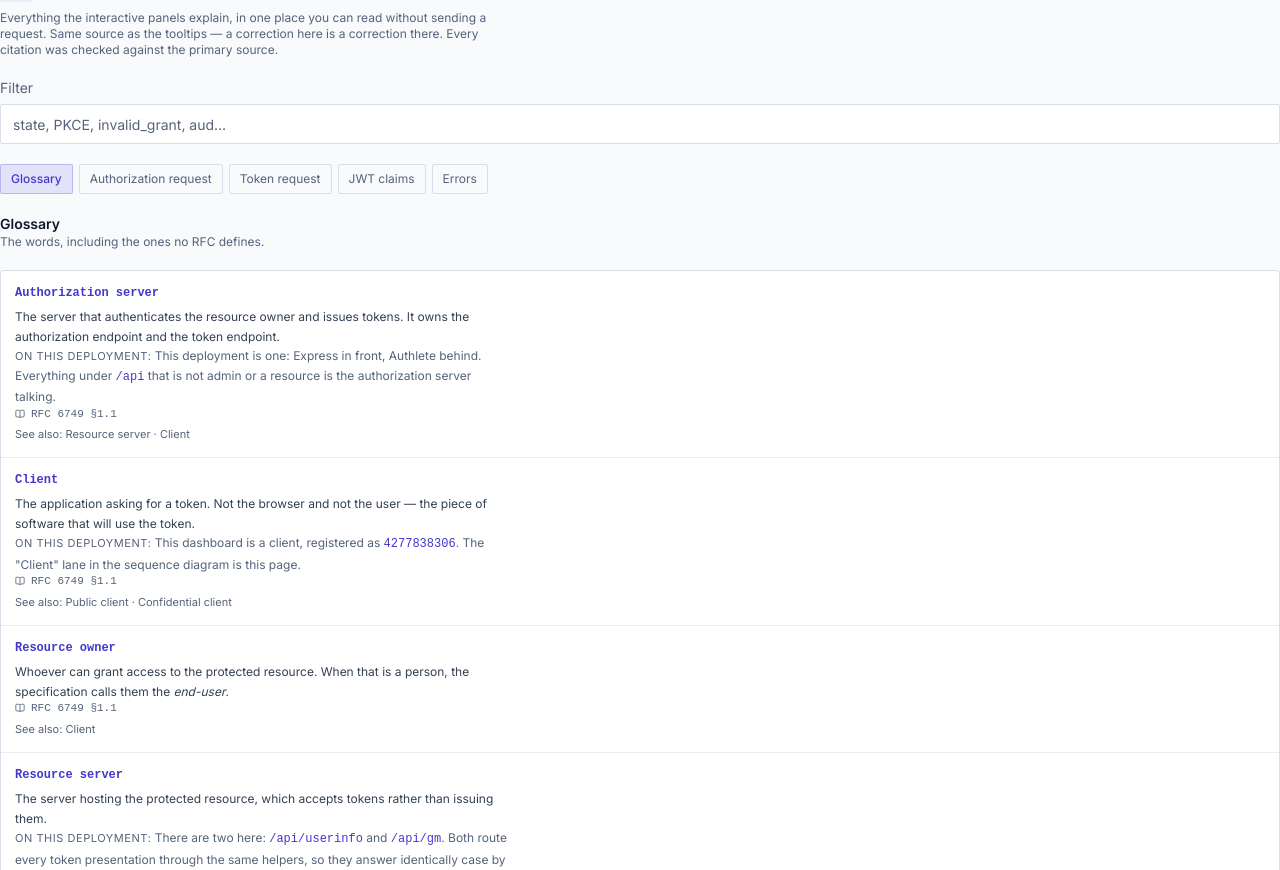
Test: ReferencePage › documents the token request, which had no surface at all
Click the button "Token request": x=280, y=179 [229,164,332,194]
(page scrolled)
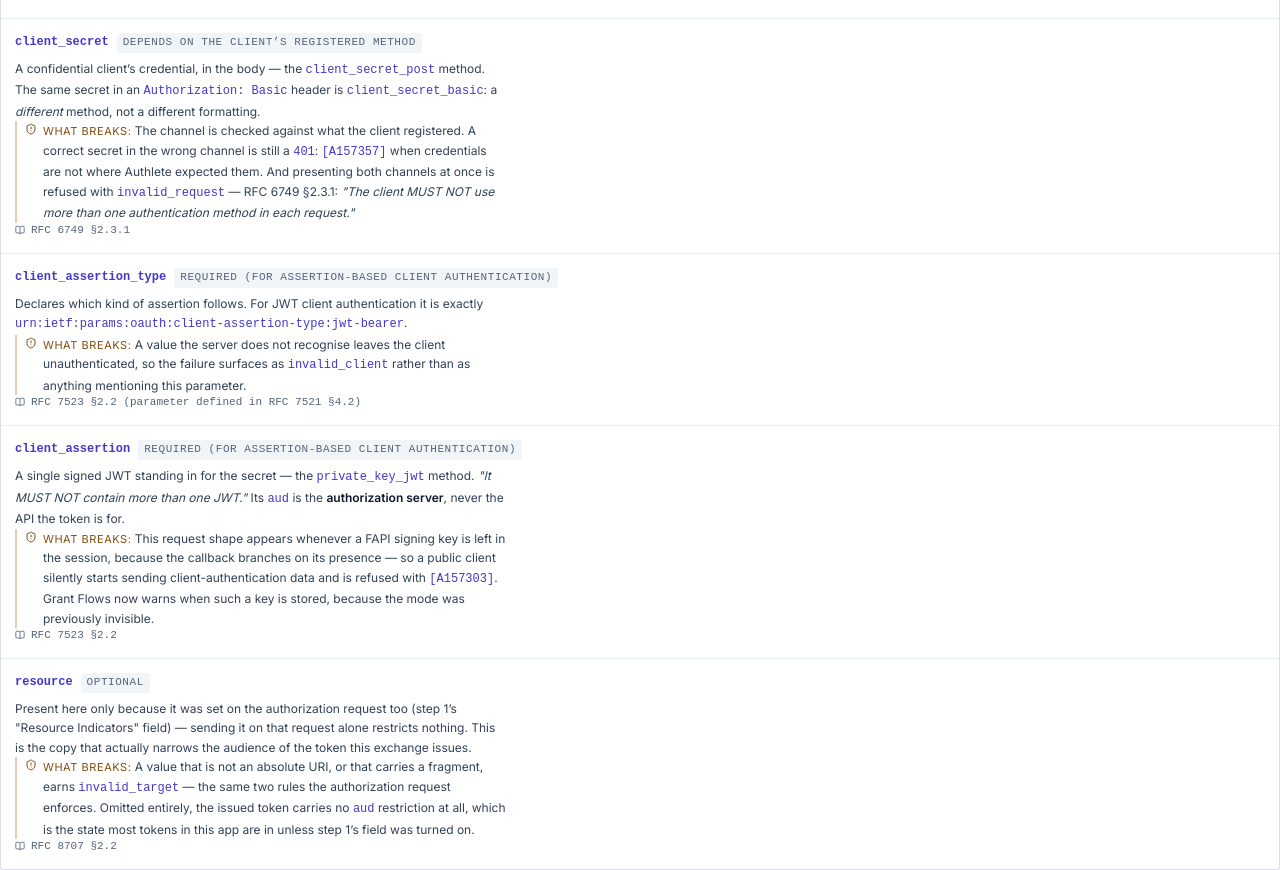
Now the heading "client_secret" is shown, box [15,34,109,50]
Now the heading "client_assertion" is shown, box [15,441,130,457]
Now the text "What breaks" is shown 9 times
